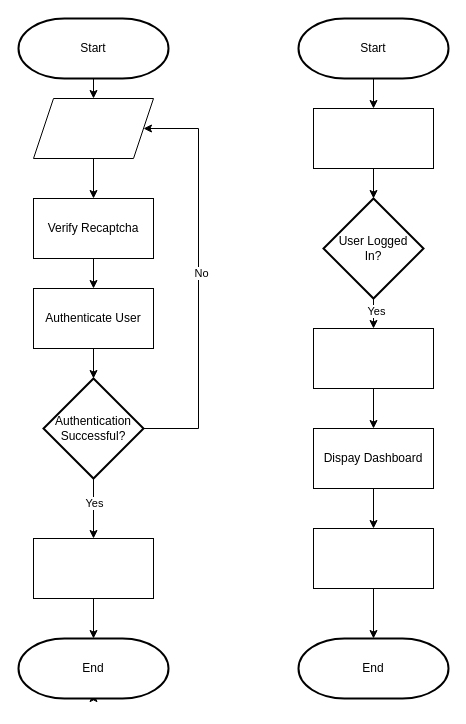
This 466x724 diagram has some shape labels left out. Here are the shapes that lost their labels. From the top down, the centre of each, then its label:
the point at 93,128: Input Username and Password
the point at 373,138: Check User Authentication
the point at 373,358: Load User Groups and Events
the point at 93,568: Load User Dashboard
the point at 373,558: User Interaction (Events, Groups, Chat)
